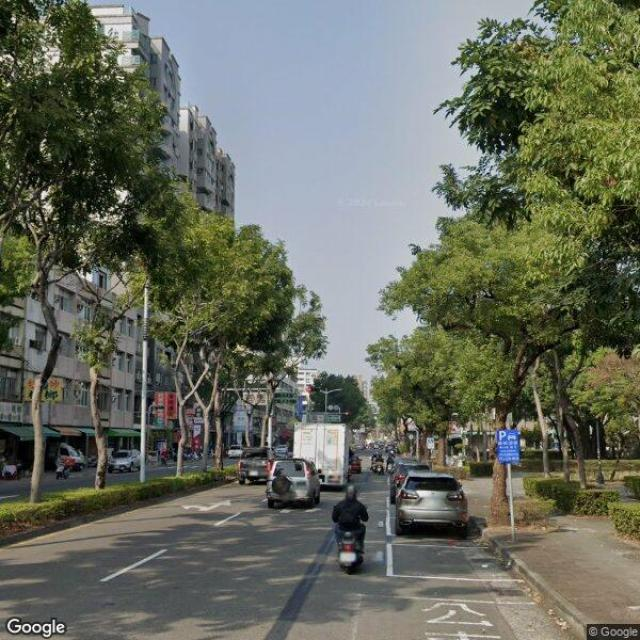Legalparking: (389, 458, 467, 537)
